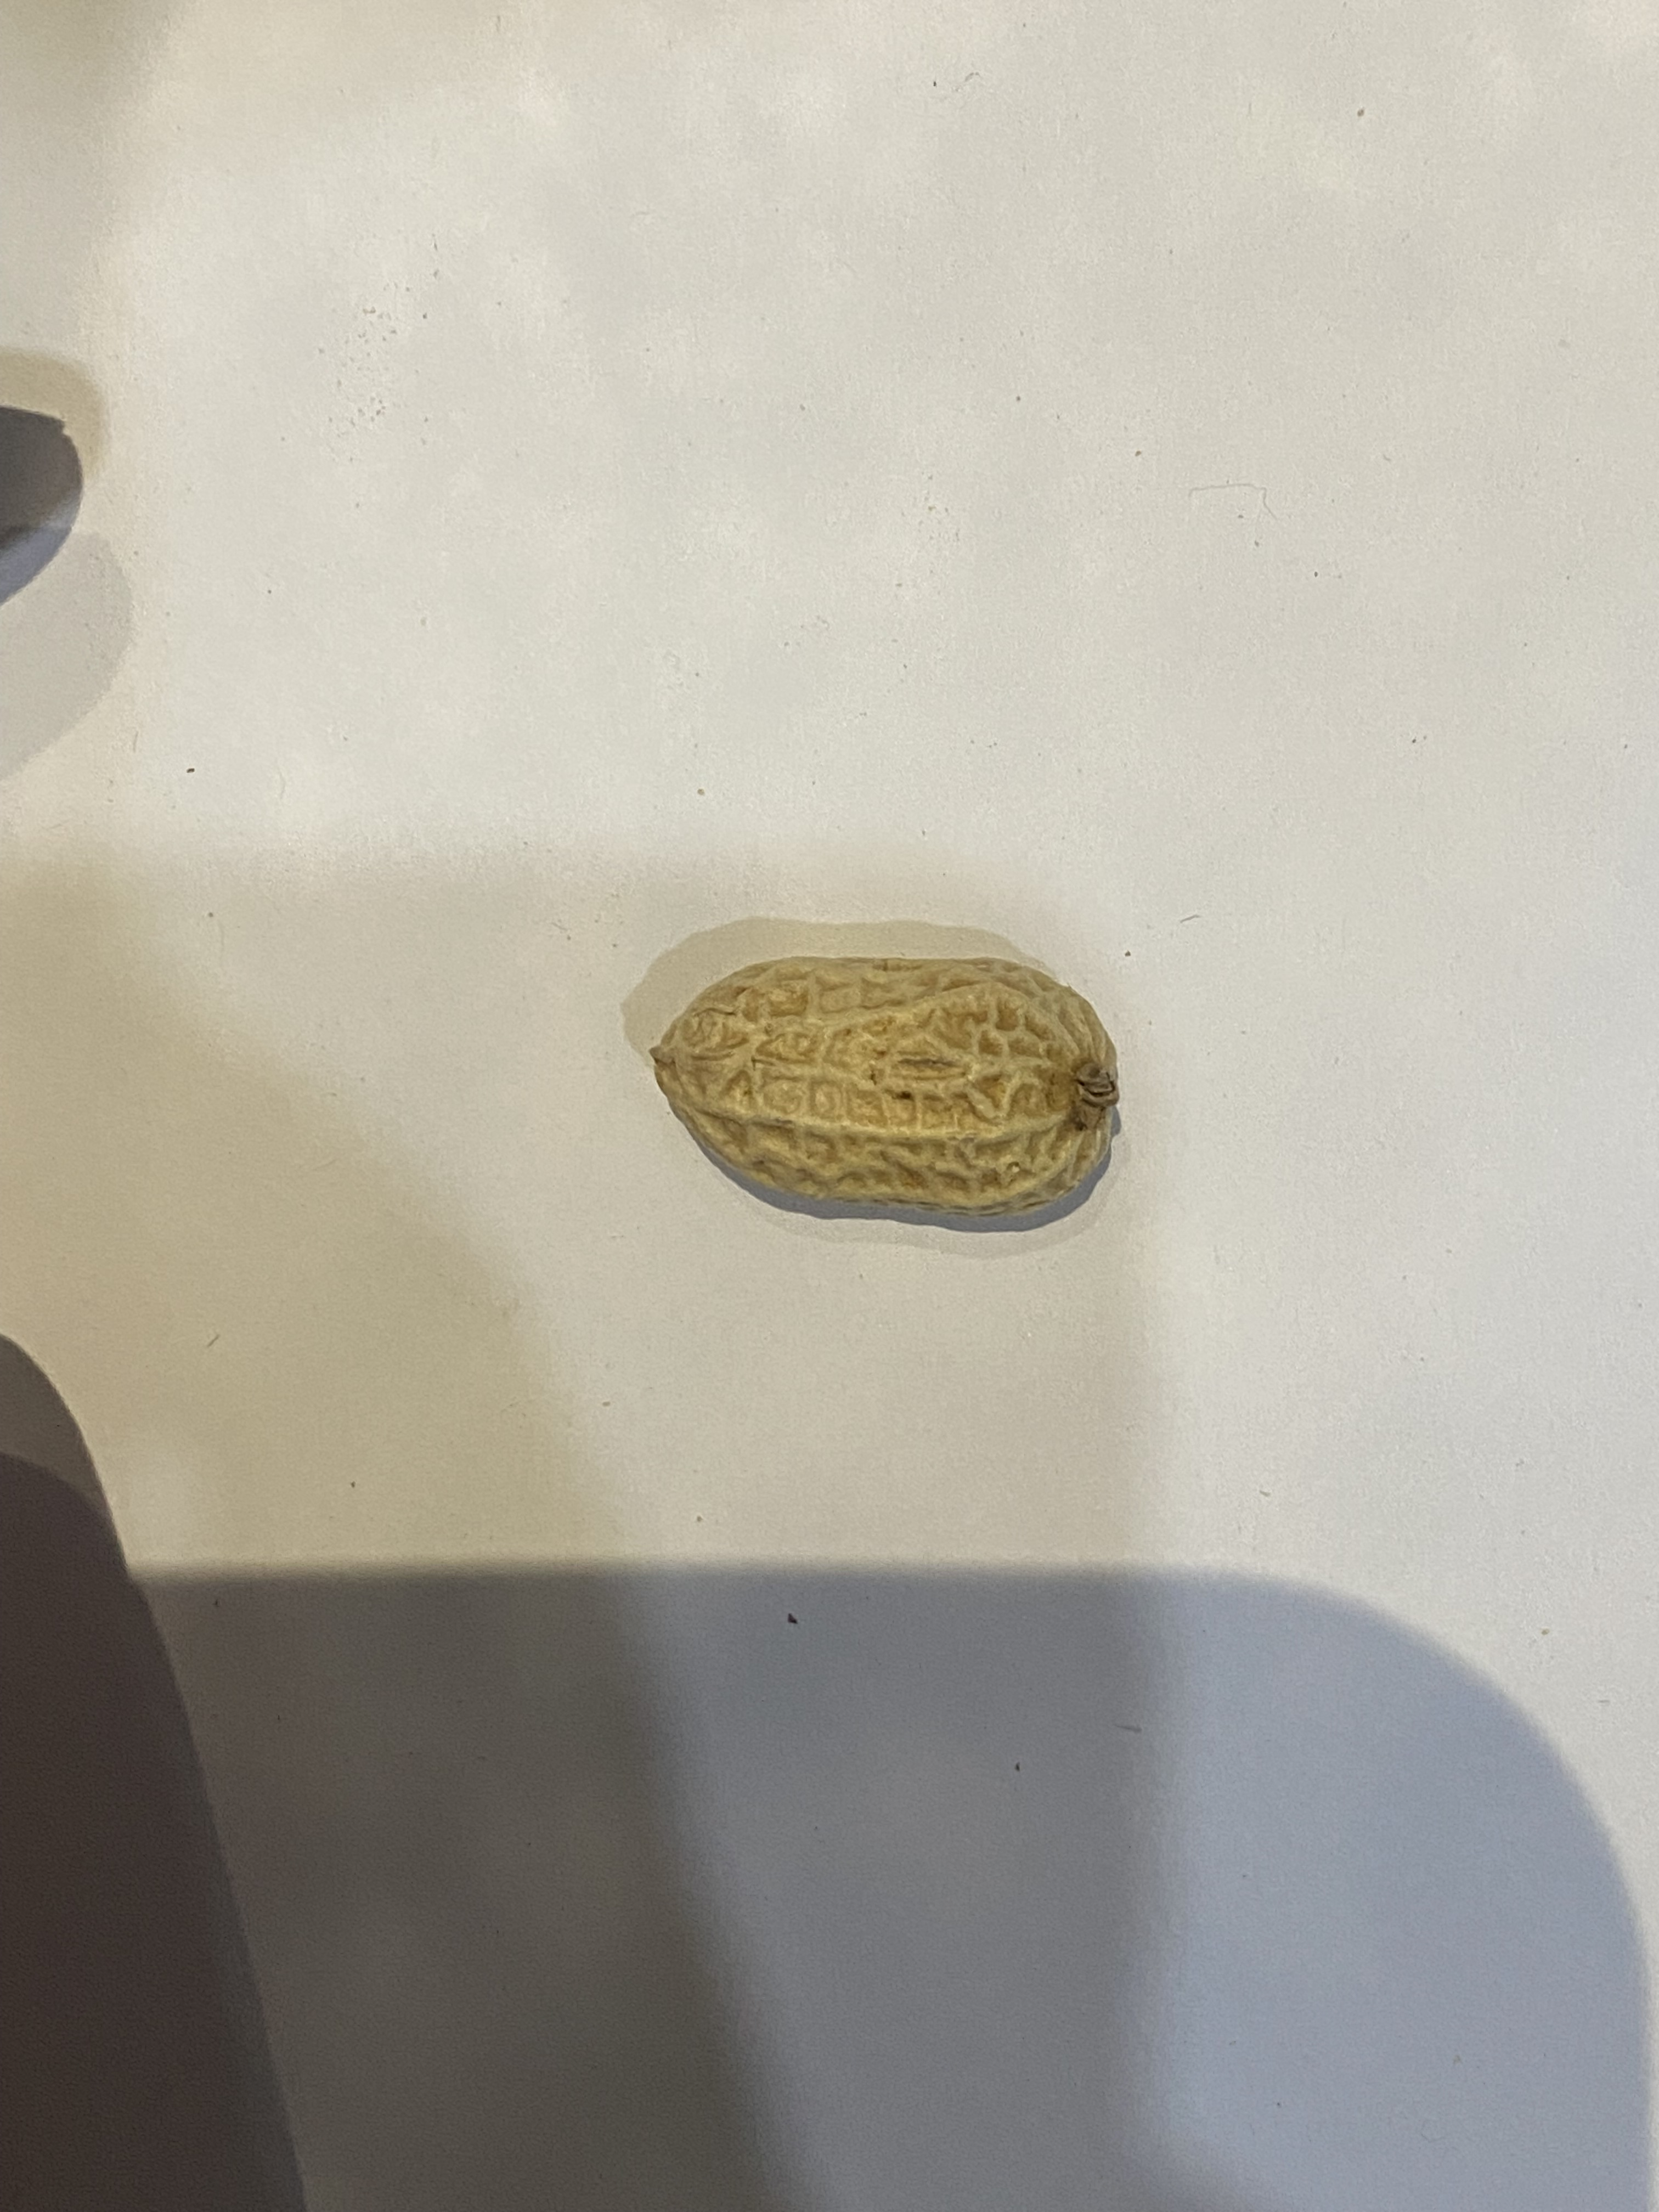kacang1: (636, 949, 1150, 1223)
